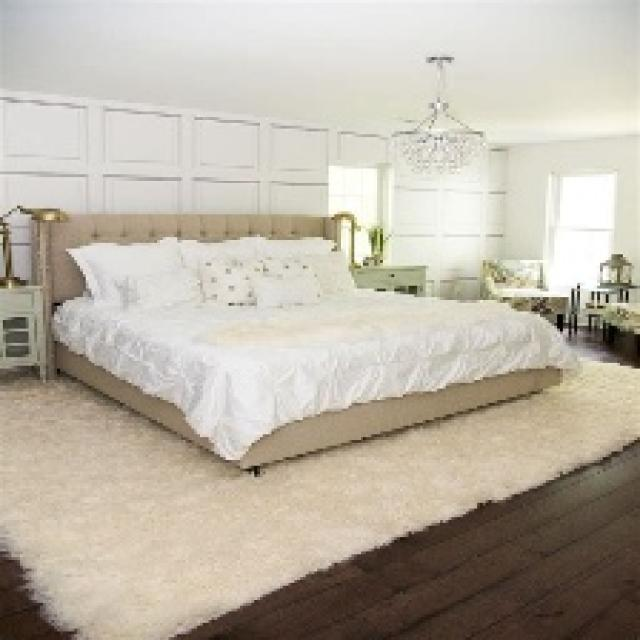Bed: (29, 212, 580, 474)
